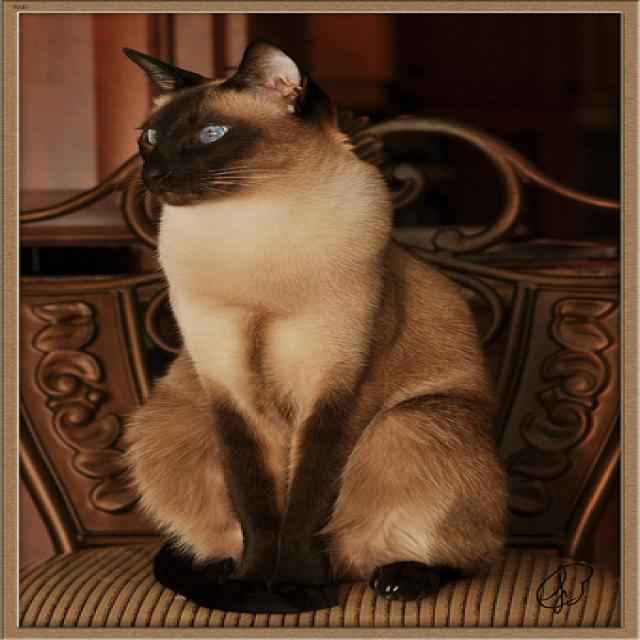Siamese: (114, 39, 347, 209)
